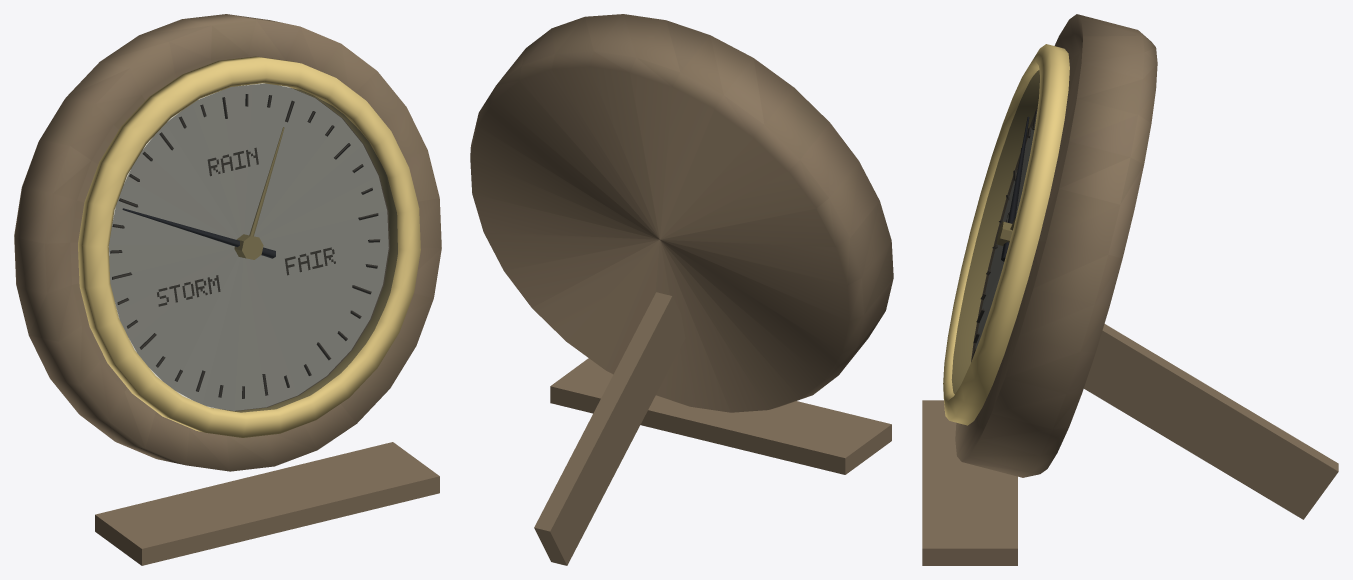
The model's file is storm_barometer_a.glb.
The picture shows the model from 3 angles, left to right: view 1: azimuth 30°, elevation 25°; view 2: azimuth 150°, elevation 25°; view 3: azimuth 270°, elevation 25°; orthographic projection. The views are drawn at different scales.
Parts seen in each view (by area): view 1: body; view 2: body; view 3: body.
Boxes of the visible parts, box(x1,y1,x2,y2) form: body: box(14, 14, 441, 565); body: box(470, 14, 893, 565); body: box(922, 14, 1338, 565).
Size of the model in its own units: 0.29 by 0.3316 by 0.261.
